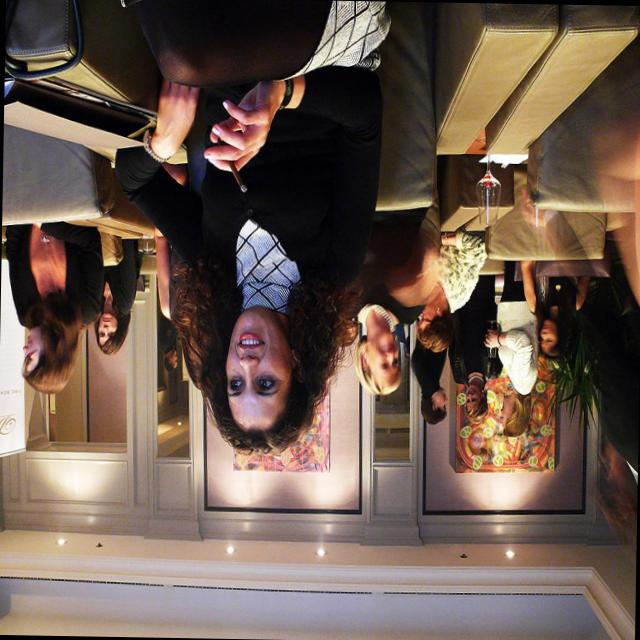smoke: (213, 145, 254, 212)
